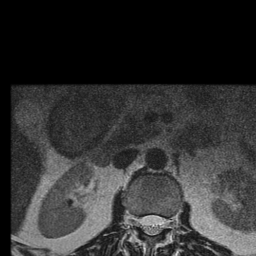CCS_normal: (148, 206, 155, 241)
LFS_normal: (164, 210, 173, 236)
LLS_normal: (155, 208, 164, 238)
RFS_normal: (132, 208, 141, 234)
RLS_normal: (141, 208, 148, 236)
